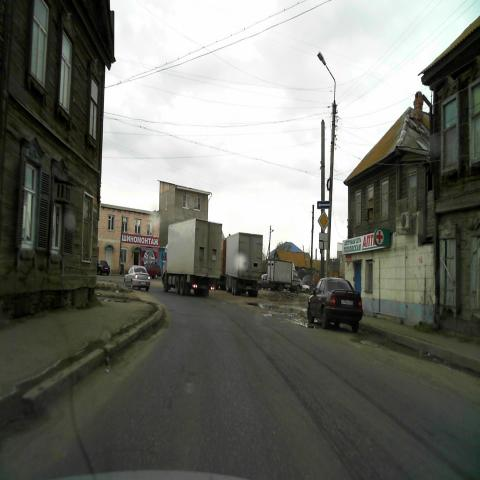5_7_2: (317, 200, 330, 210)
